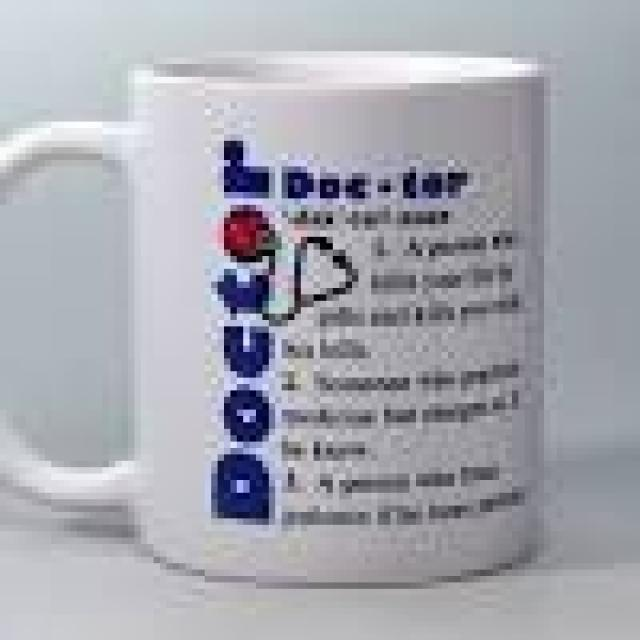taza: (0, 48, 578, 596)
